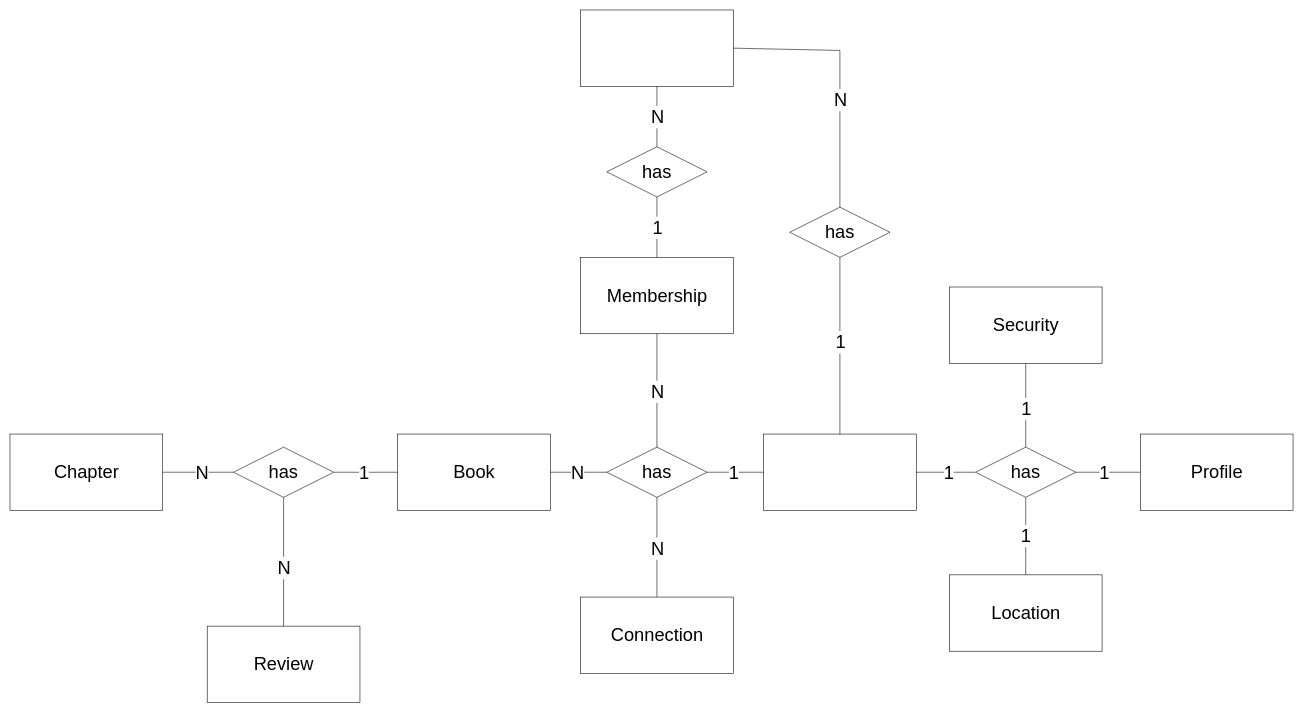
This 1303x713 diagram has some shape labels left out. Here are the shapes that lost their labels. From the top down, the centre of each, then its label:
At (656,47): "Subscription".
At (839,471): "User".
